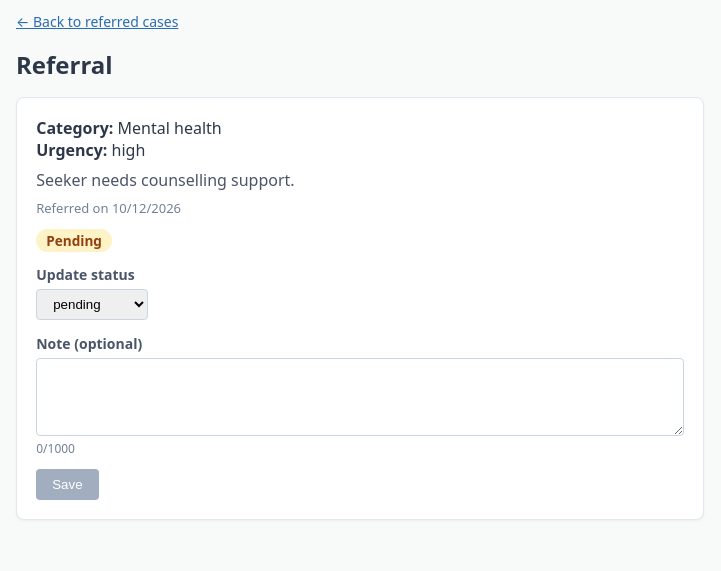
ReferralDetail › saving › sends the new status and note, then confirms
Step 1. Select "in progress" in the dropdown labelled "Update status" → (92, 305), box x1=36 y1=289 x2=148 y2=320
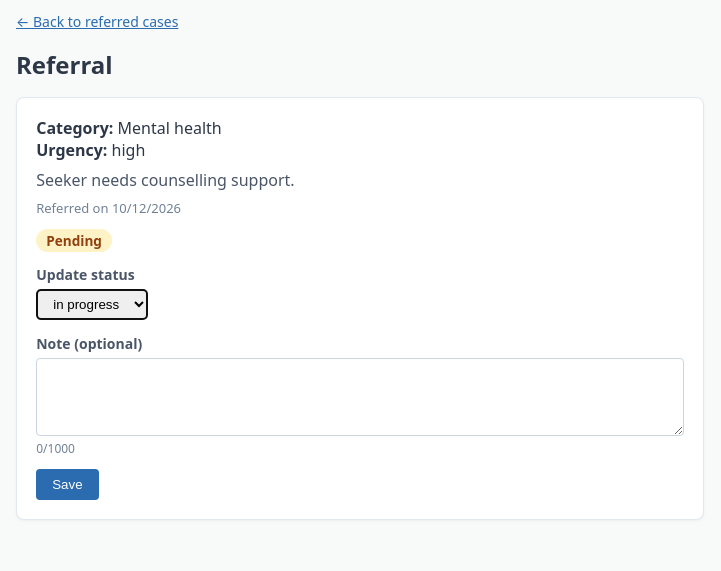
Step 2. Type "We contacted her." into the text box labelled "Note (optional)" → (360, 397), box x1=36 y1=358 x2=684 y2=436
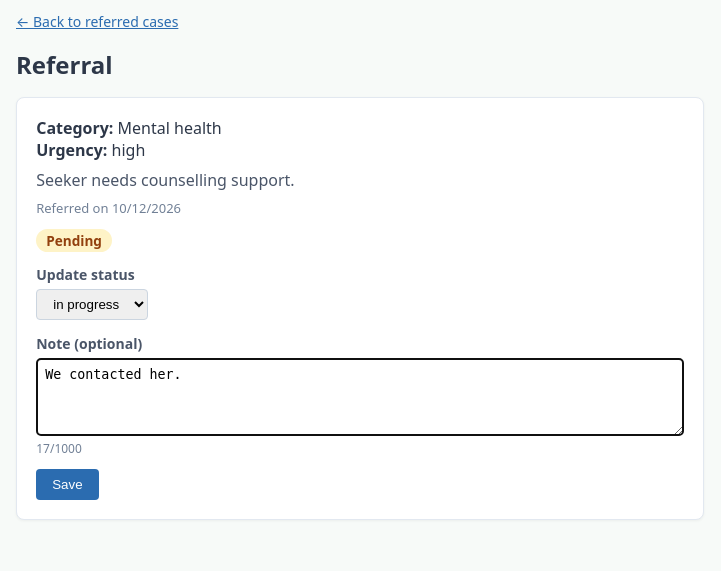
Step 3. Click the button "Save" → (67, 485), box x1=36 y1=469 x2=99 y2=500
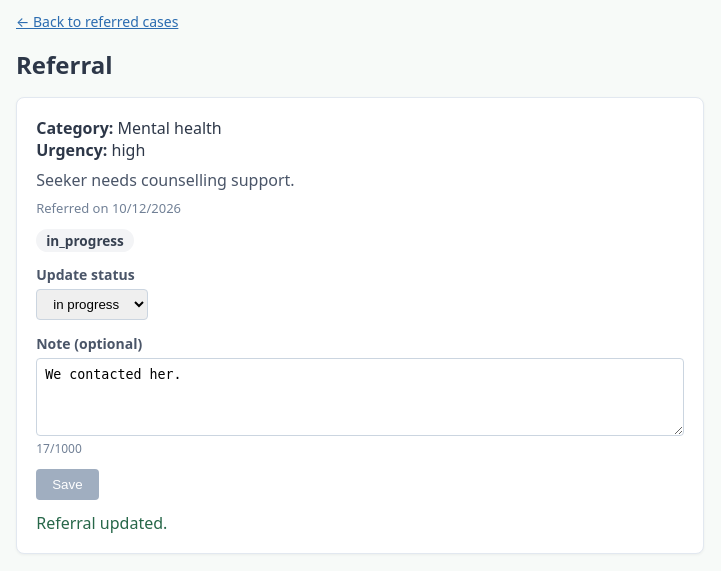
Check: the text "Referral updated." is shown, box x1=36 y1=512 x2=167 y2=534
